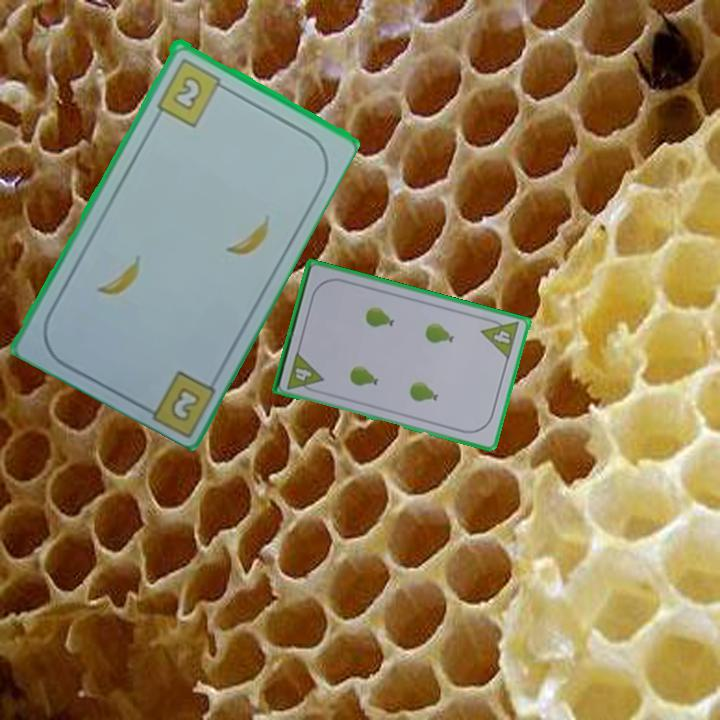2b: (153, 54, 231, 129), (166, 382, 204, 424)
4p: (478, 314, 522, 362), (283, 348, 326, 396)
